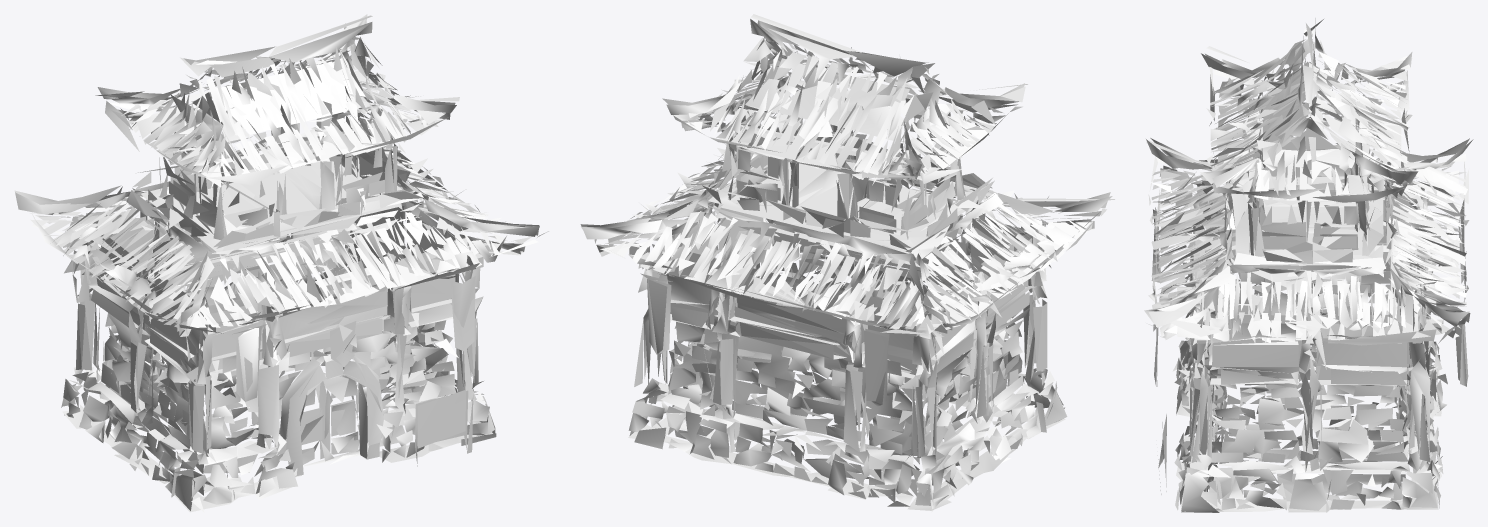
The model's file is guild_hall_lod2.glb.
3 views of the same model, side by side, from view 1: azimuth 30°, elevation 25°; view 2: azimuth 150°, elevation 25°; view 3: azimuth 270°, elevation 25° (orthographic). The views are drawn at different scales.
Visible parts, largest first — view 1: guild_hall; view 2: guild_hall; view 3: guild_hall.
Boxes of the visible parts, x1,y1,x2,y2 form: guild_hall: (14,14,548,512); guild_hall: (580,14,1114,512); guild_hall: (1144,18,1473,512).
Size of the model in its own units: 16.09 by 16.07 by 12.44.
1 material, 1 textured.
